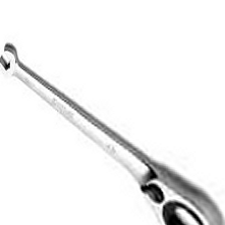Wrench: (2, 40, 225, 225)
